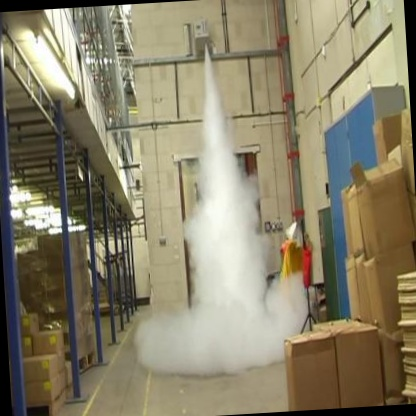smoke: (132, 47, 302, 366)
